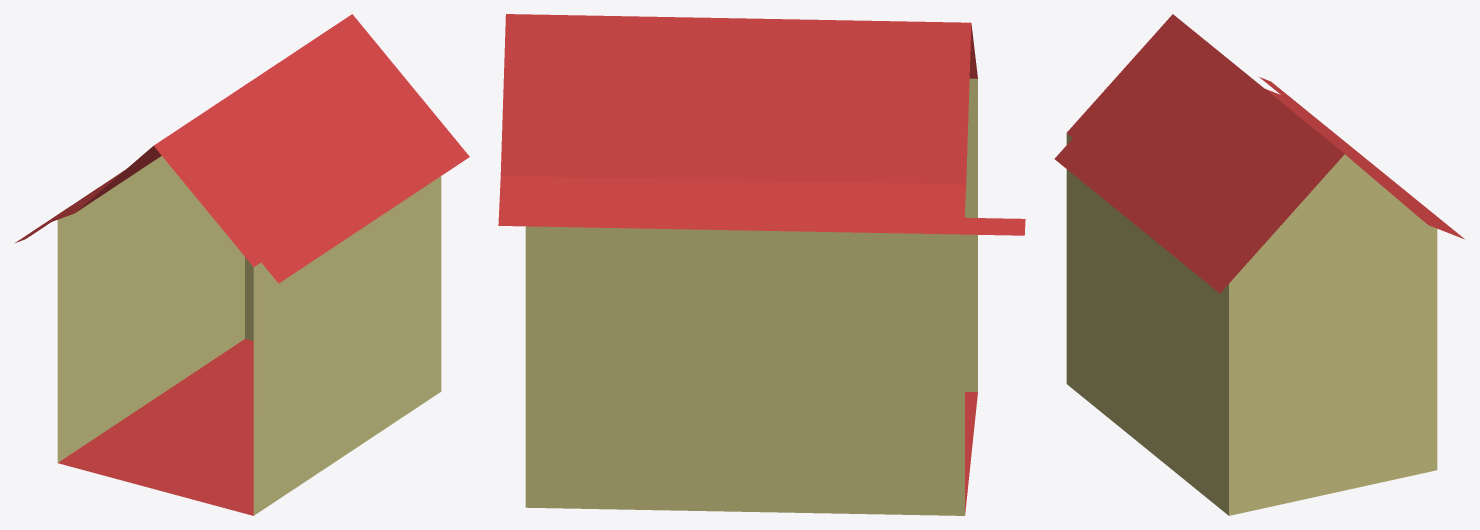
The picture shows the model from 3 angles, left to right: view 1: azimuth 30°, elevation 25°; view 2: azimuth 150°, elevation 25°; view 3: azimuth 270°, elevation 25°; orthographic projection. The views are drawn at different scales.
Bounding box in the file's own units: 17.93 × 14.69 × 13.65.
